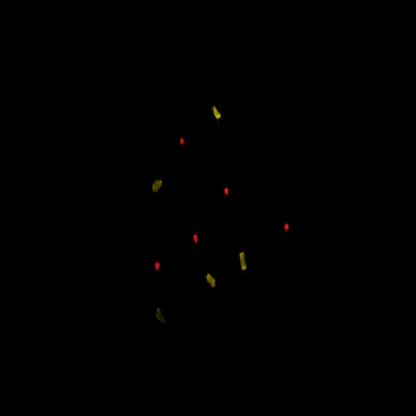PET: (149, 251, 168, 279), (176, 130, 190, 155), (191, 228, 203, 250), (282, 216, 293, 238), (222, 183, 233, 202)
PP: (146, 167, 169, 210), (149, 294, 173, 334), (203, 264, 227, 301), (208, 97, 227, 136), (235, 246, 251, 284)
